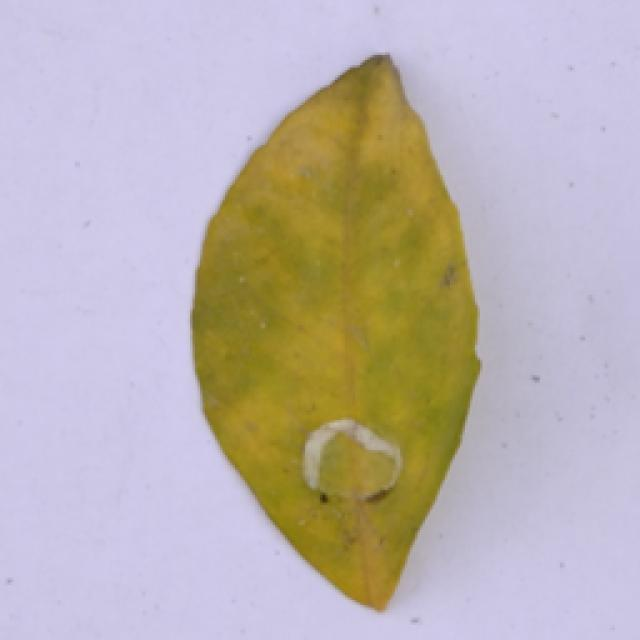greening: (152, 50, 499, 619)
